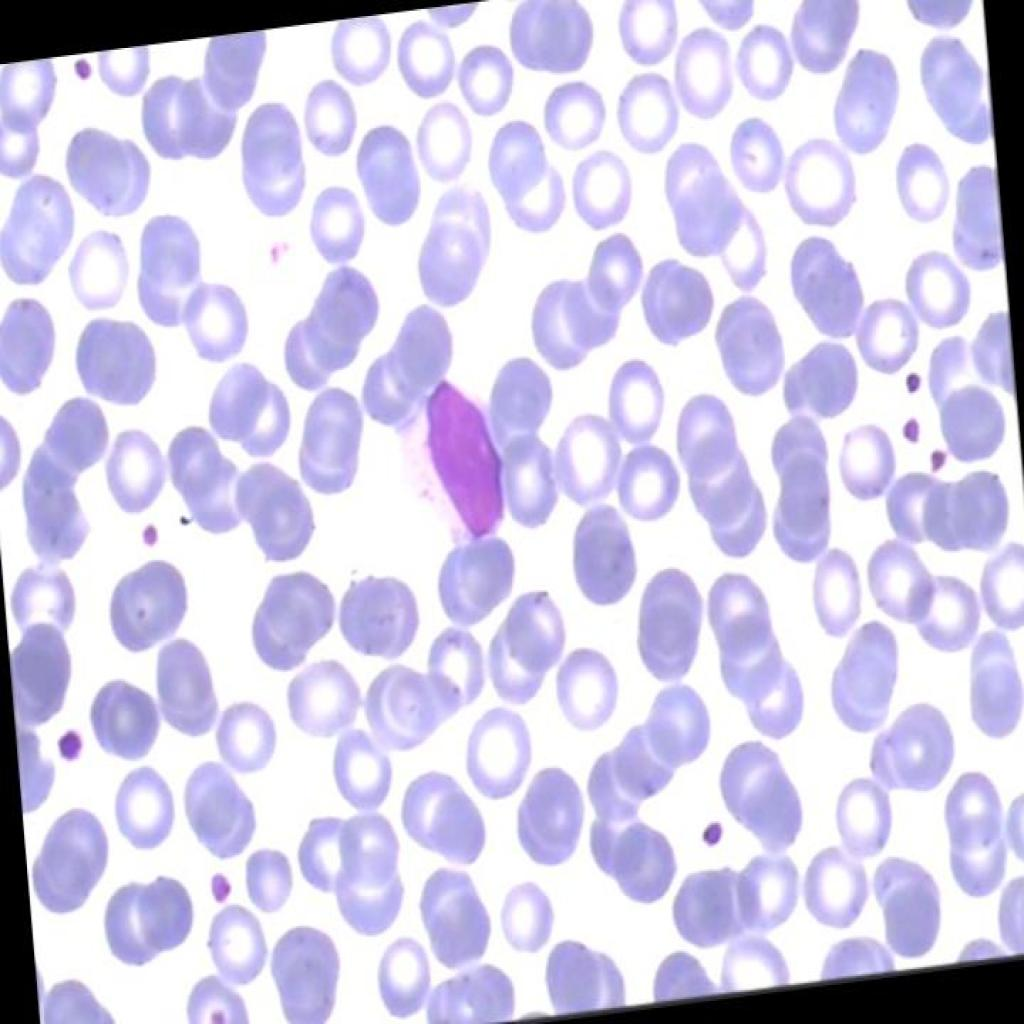Monosit: (372, 343, 534, 565)
Platelet: (57, 50, 109, 101), (690, 810, 736, 866), (51, 718, 90, 784), (205, 852, 239, 919), (890, 356, 928, 406), (130, 507, 166, 558), (921, 432, 953, 478), (892, 404, 922, 450)
